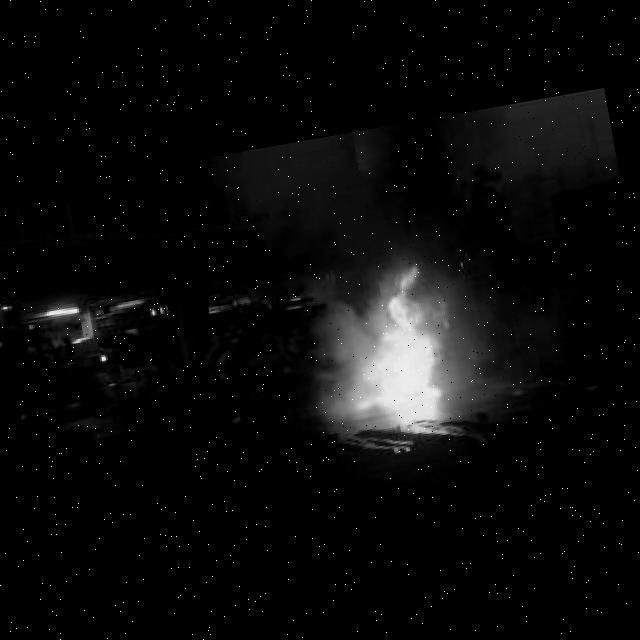Fire: (324, 265, 448, 415)
